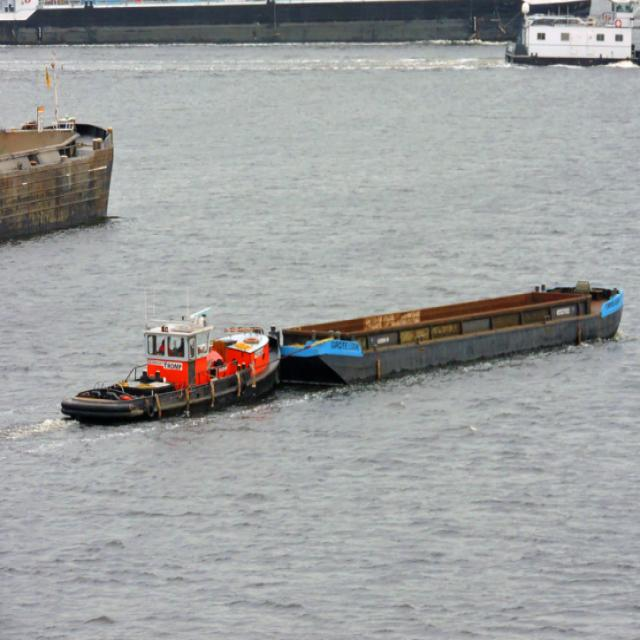tugboat: (56, 301, 284, 433), (501, 1, 640, 77)
